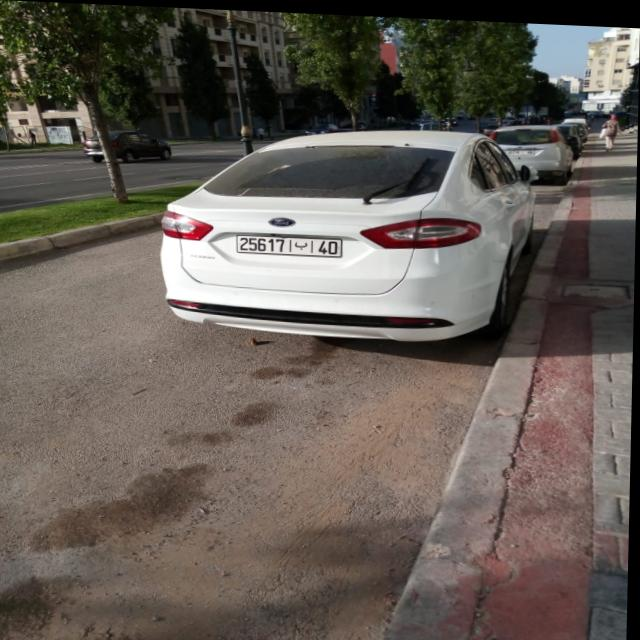License-Plate: (237, 232, 342, 254)
